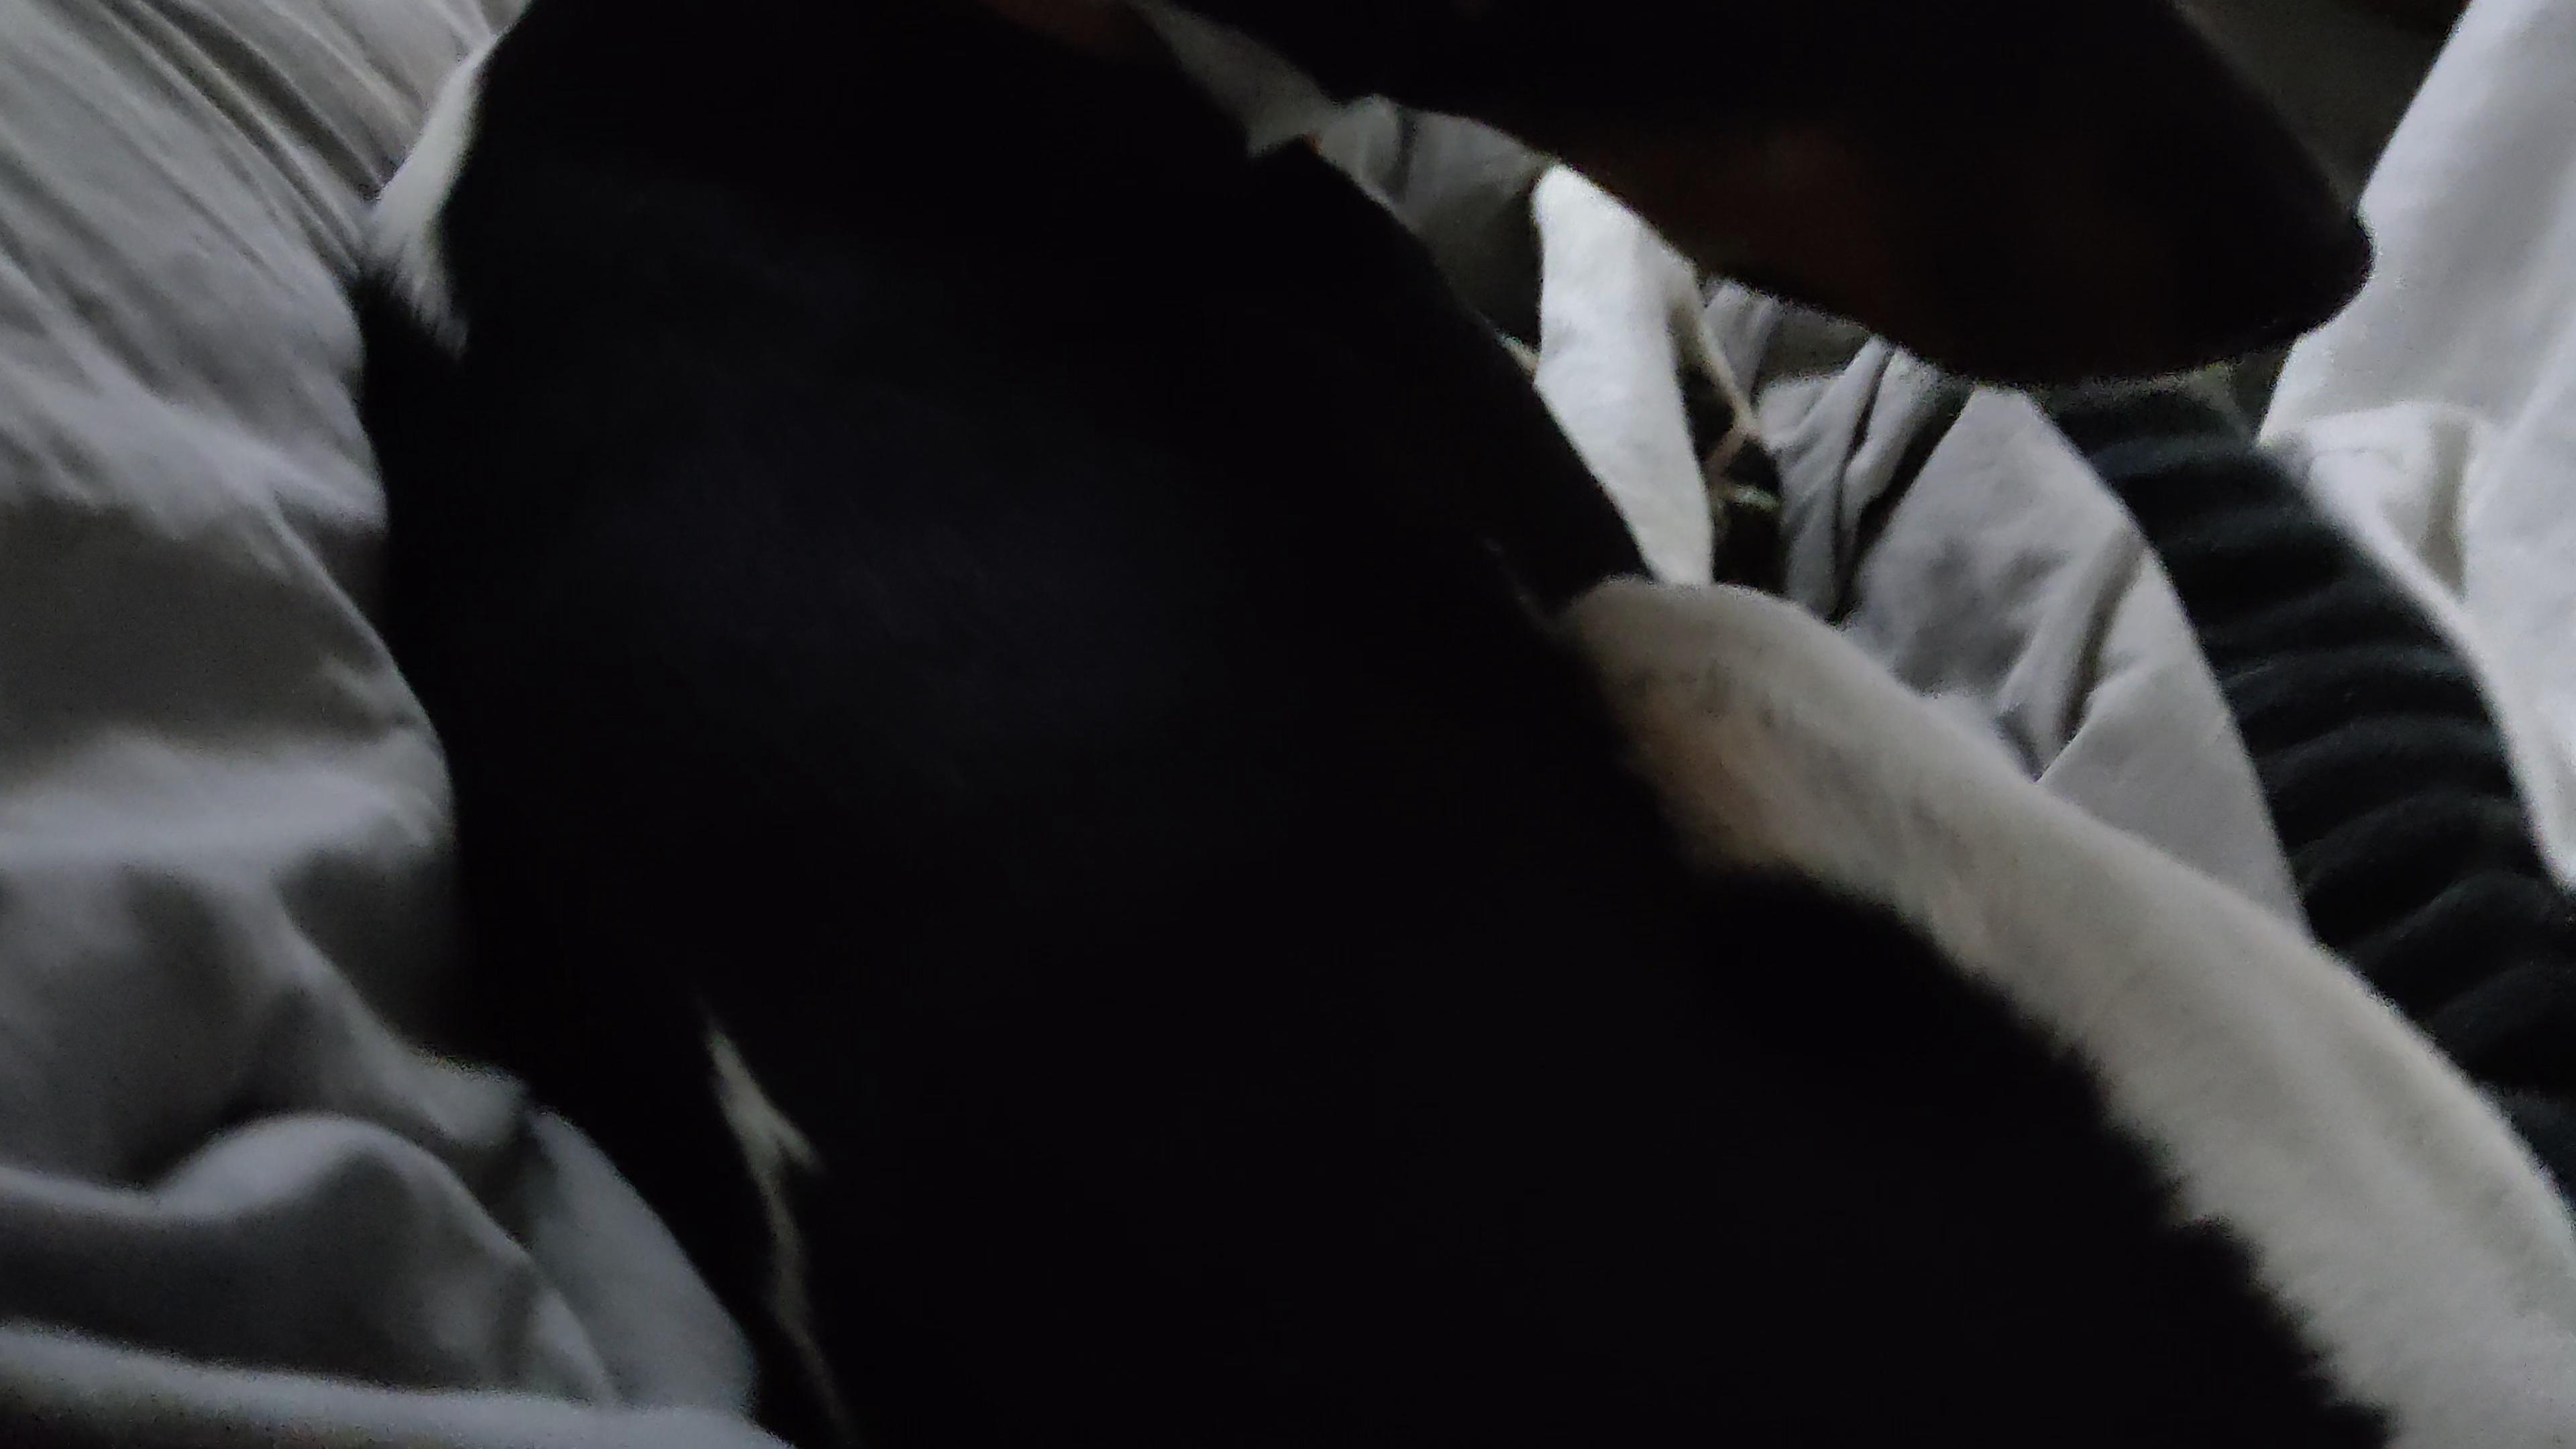Dog: (311, 0, 2576, 1449)
